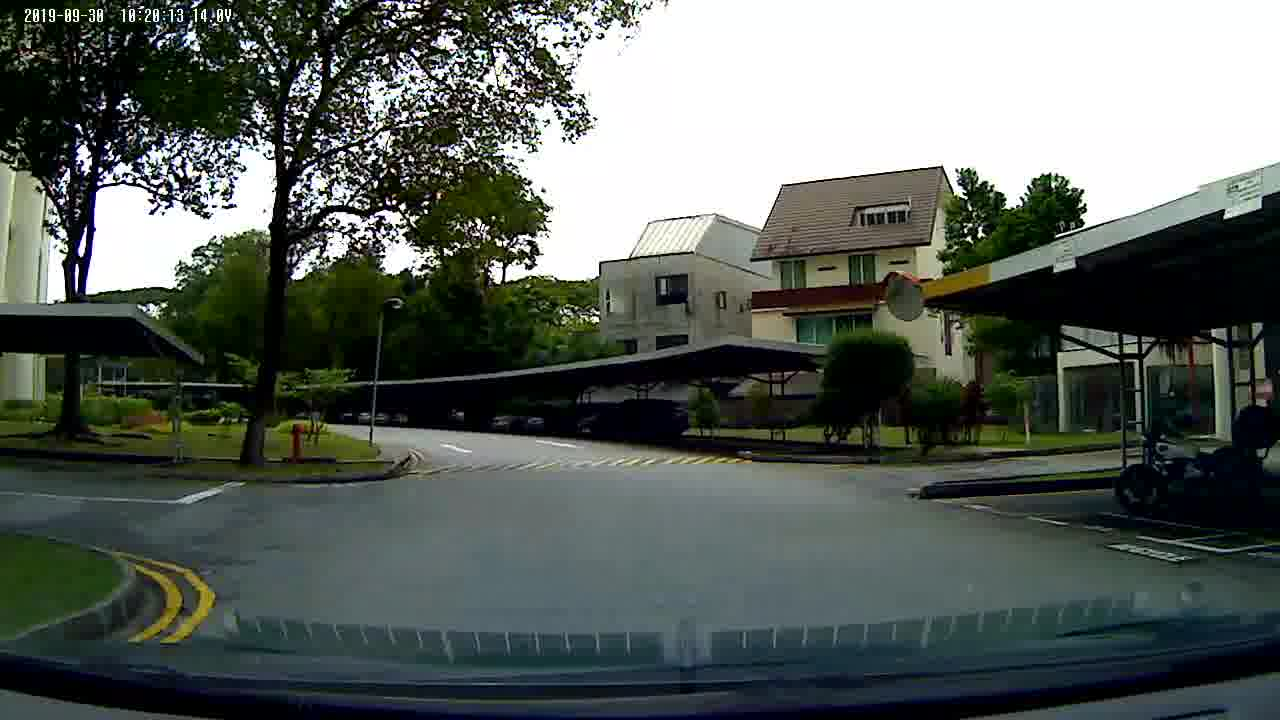car: (570, 399, 694, 451)
